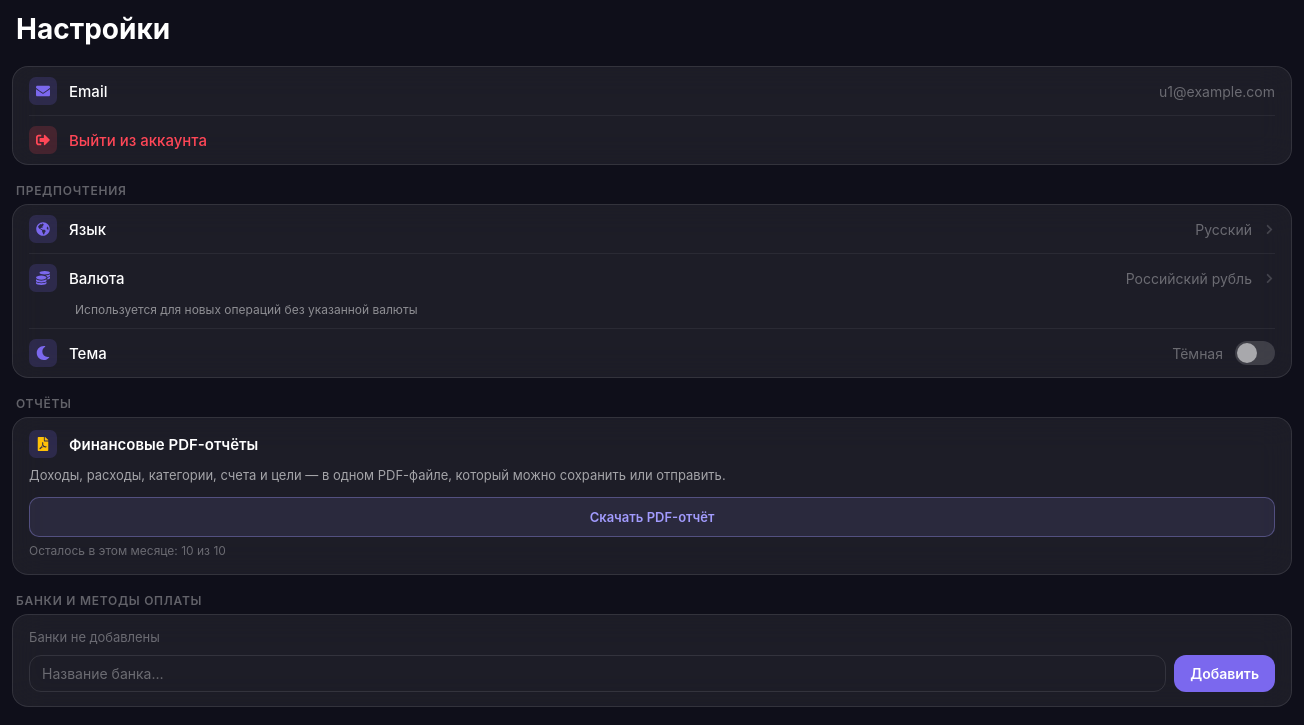
Settings: a server error keeps its message, and the button works again afterwards
Click the button "Скачать PDF-отчёт" at (652, 517), box [29,497,1275,537]
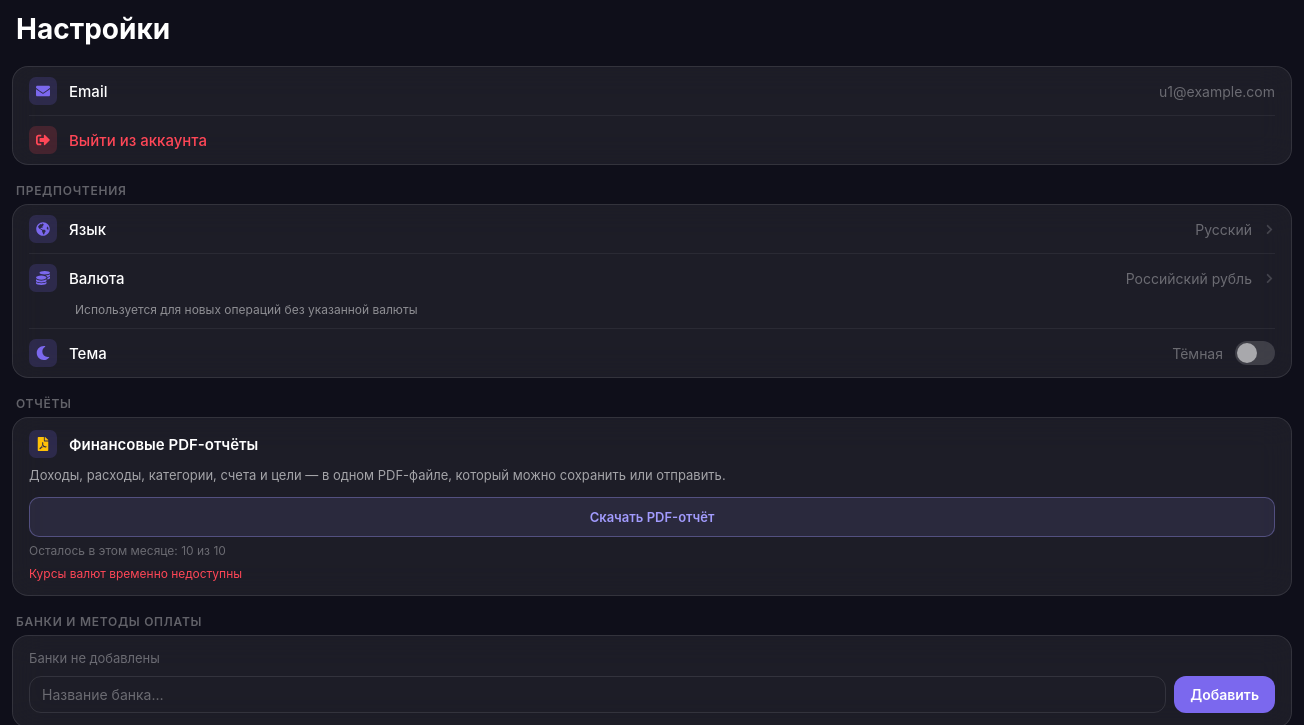
Expected: the message reads "Курсы валют временно недоступны", [29,566,242,581]
